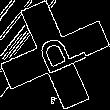P_SW: (24, 28, 86, 82)
